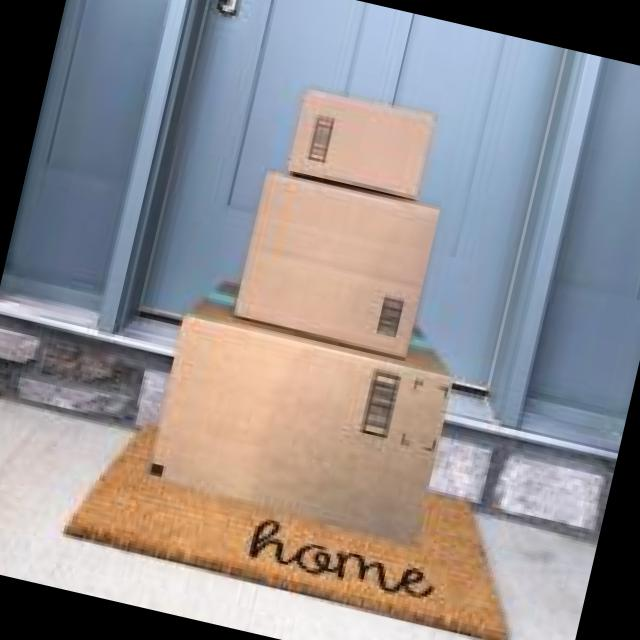box: (149, 281, 453, 554), (231, 167, 441, 362), (284, 88, 438, 203)
